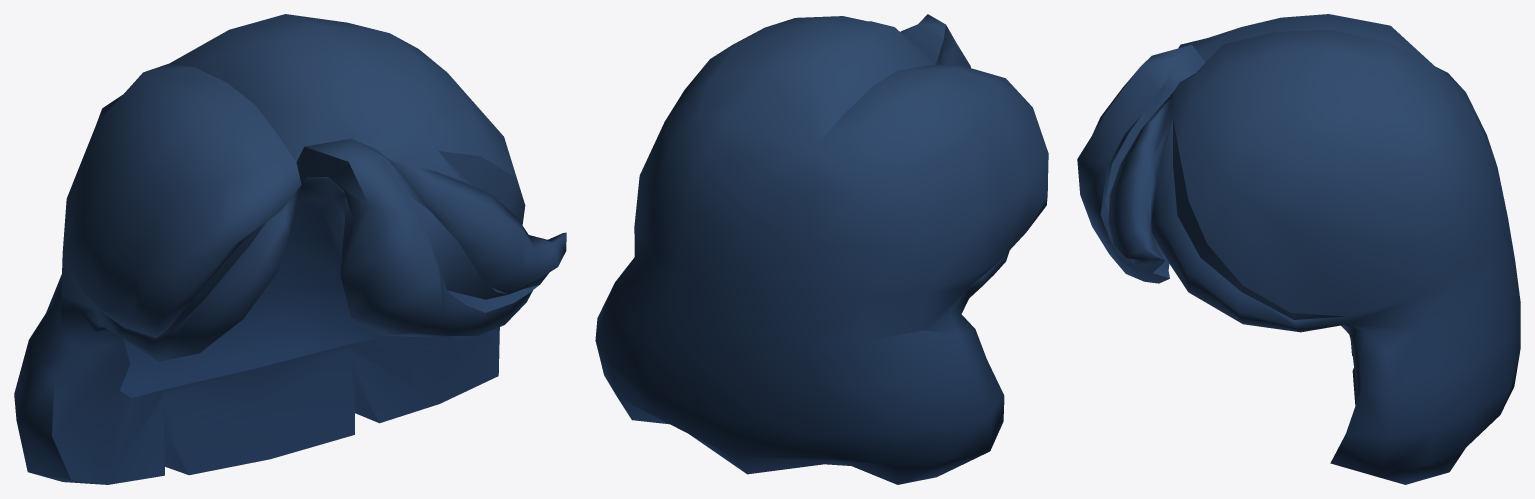
File: Hair_Blue_7.fbx
The picture shows the model from 3 angles, left to right: view 1: azimuth 30°, elevation 25°; view 2: azimuth 150°, elevation 25°; view 3: azimuth 270°, elevation 25°; orthographic projection. The views are drawn at different scales.
Visible parts, largest first — view 1: Hair_Blue_7; view 2: Hair_Blue_7; view 3: Hair_Blue_7.
Boxes of the visible parts, <box> form: Hair_Blue_7: <box>14,14,566,484</box>; Hair_Blue_7: <box>595,14,1048,484</box>; Hair_Blue_7: <box>1077,14,1520,484</box>.
Size of the model in its own units: 67.35 by 62.65 by 64.72.
